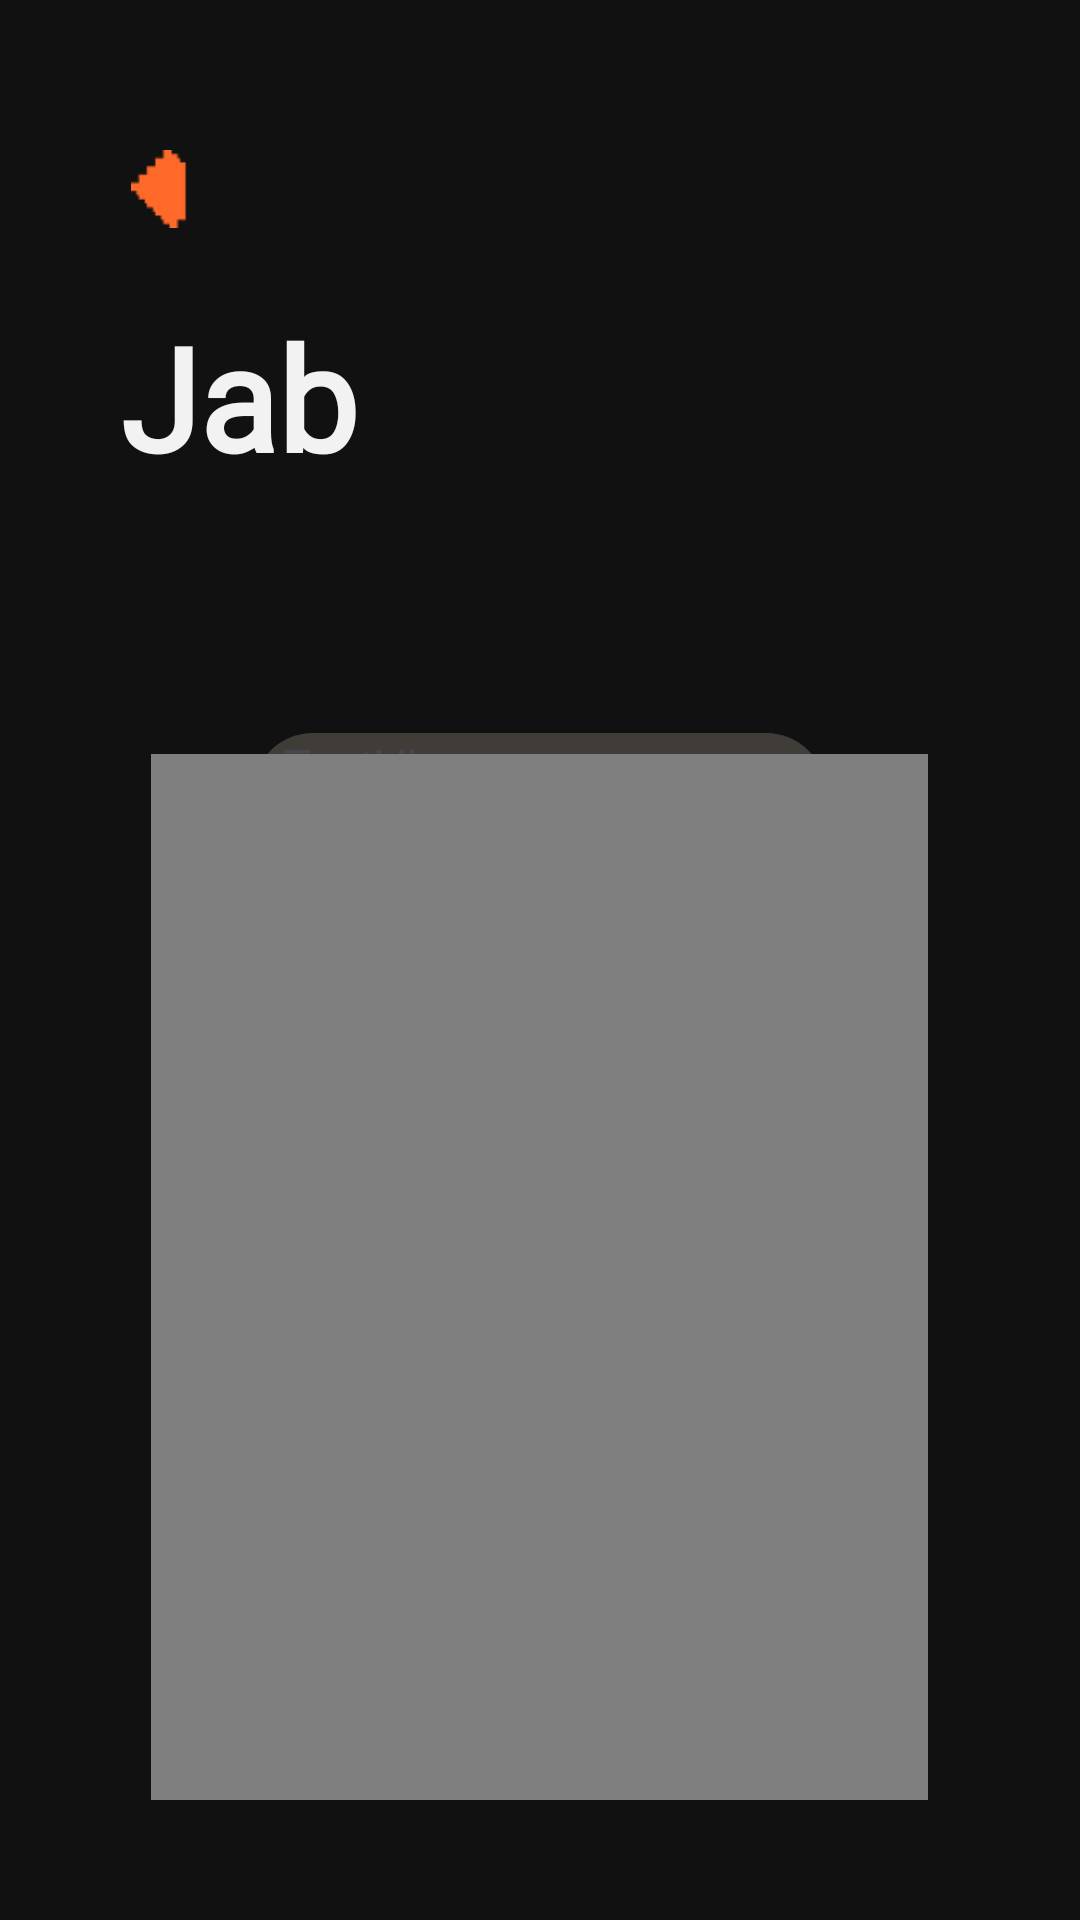

Icon bounding boxes for this 1080x1920 phone screenshot, format bbox=[x1, y1, x2, y2]:
back: bbox=[131, 150, 186, 228]
